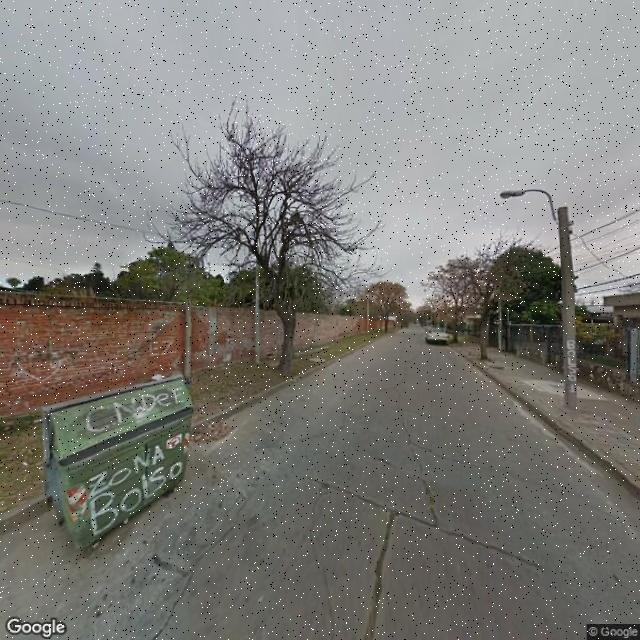garbage container: (29, 371, 214, 561)
